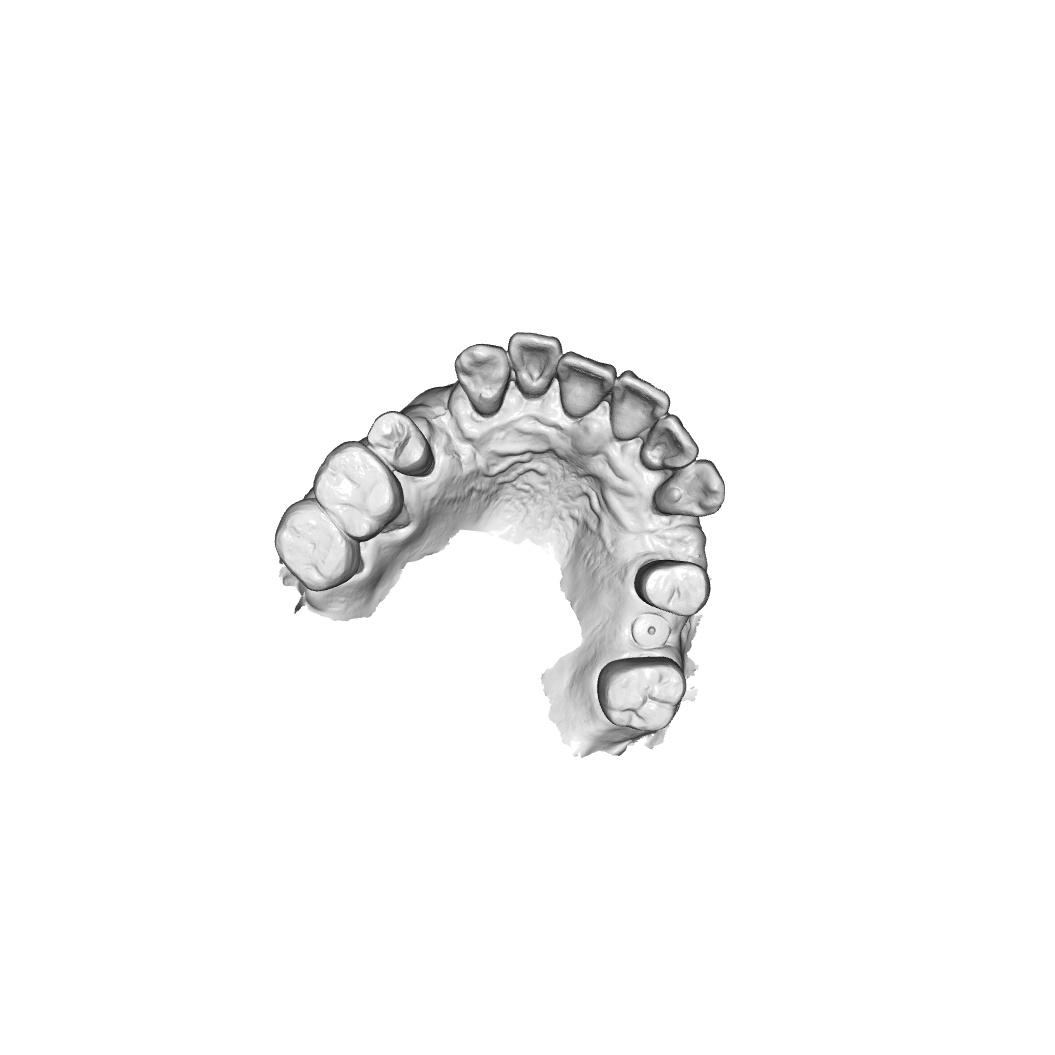canine: (646, 461, 735, 520), (450, 343, 514, 419)
implant: (624, 612, 673, 646)
incisor: (611, 367, 672, 446), (554, 350, 617, 420), (508, 329, 561, 402), (638, 413, 701, 470)
molar: (314, 440, 406, 544), (589, 654, 697, 734), (272, 497, 358, 592)
premolar: (357, 412, 437, 478), (623, 557, 714, 614)
